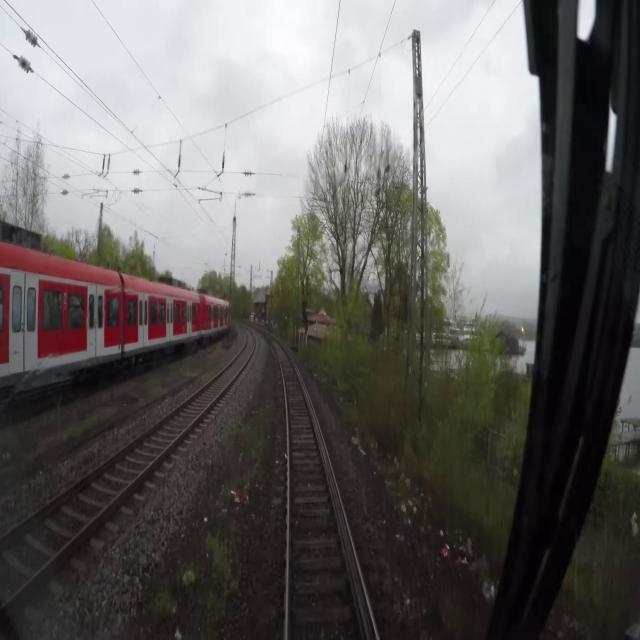rail-track: (0, 331, 253, 594), (272, 339, 365, 639)
